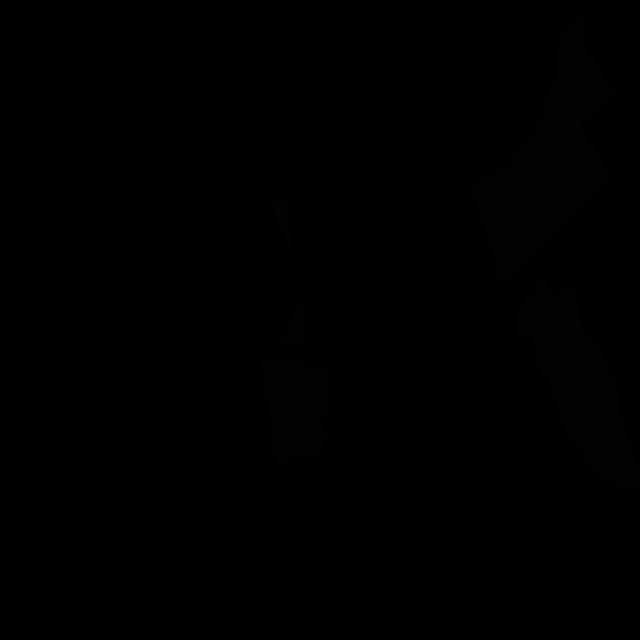cardboard: (470, 12, 619, 287), (515, 272, 640, 489), (260, 355, 329, 477), (267, 197, 293, 258), (278, 299, 306, 349)
